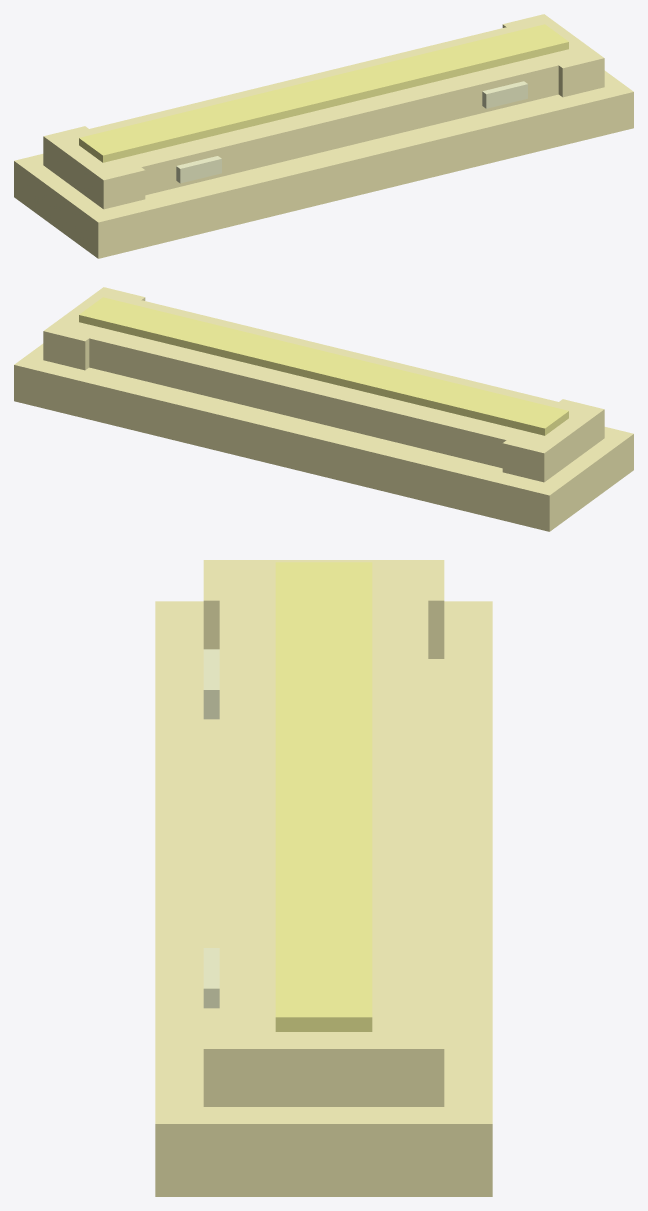
Rendered from furniture_curb_separator_modular_kerb.glb.
3 renders of one model, top to bottom at view 1: azimuth 30°, elevation 25°; view 2: azimuth 150°, elevation 25°; view 3: azimuth 270°, elevation 25°, orthographic. The views are drawn at different scales.
Visible parts, largest first — view 1: base, upper_kerb, cap_strip, nose_left, nose_right, reflector_right, reflector_left; view 2: base, upper_kerb, cap_strip, nose_left, nose_right; view 3: base, upper_kerb, cap_strip, nose_right, nose_left, reflector_left, reflector_right.
Part boxes in pixels (x1=…): base: x1=14, y1=70, x2=633, y2=258; upper_kerb: x1=51, y1=18, x2=596, y2=195; cap_strip: x1=79, y1=24, x2=568, y2=162; nose_left: x1=43, y1=126, x2=145, y2=209; nose_right: x1=502, y1=14, x2=604, y2=97; reflector_right: x1=482, y1=81, x2=527, y2=108; reflector_left: x1=176, y1=156, x2=221, y2=183; base: x1=14, y1=343, x2=633, y2=531; upper_kerb: x1=52, y1=291, x2=596, y2=468; cap_strip: x1=79, y1=297, x2=568, y2=435; nose_left: x1=502, y1=399, x2=604, y2=482; nose_right: x1=43, y1=287, x2=145, y2=370; base: x1=155, y1=601, x2=492, y2=1196; upper_kerb: x1=219, y1=563, x2=428, y2=1045; cap_strip: x1=275, y1=562, x2=372, y2=1031; nose_right: x1=203, y1=1008, x2=444, y2=1106; nose_left: x1=203, y1=560, x2=444, y2=658; reflector_left: x1=203, y1=649, x2=219, y2=719; reflector_right: x1=203, y1=948, x2=219, y2=1008.
Size of the model in its own units: 1.54 by 0.2 by 0.42.
